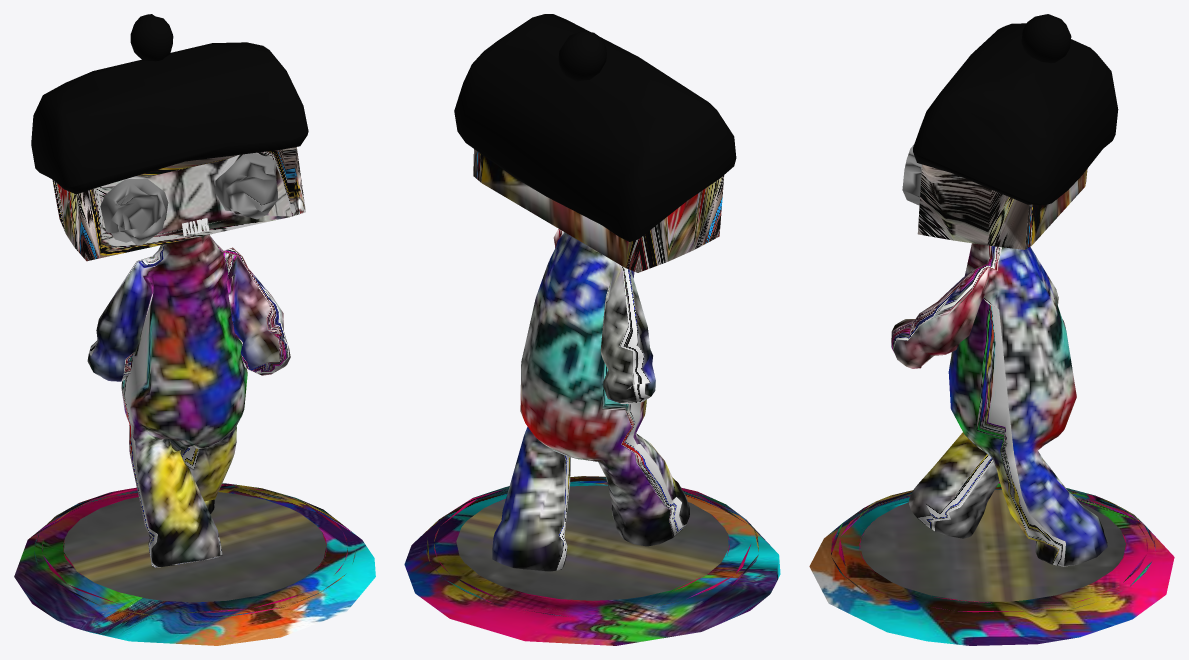
The picture shows the model from 3 angles, left to right: view 1: azimuth 30°, elevation 25°; view 2: azimuth 150°, elevation 25°; view 3: azimuth 270°, elevation 25°; orthographic projection. The views are drawn at different scales.
Bounding box in the file's own units: 1.44 × 2.37 × 1.44.
7 materials, 4 textured.
